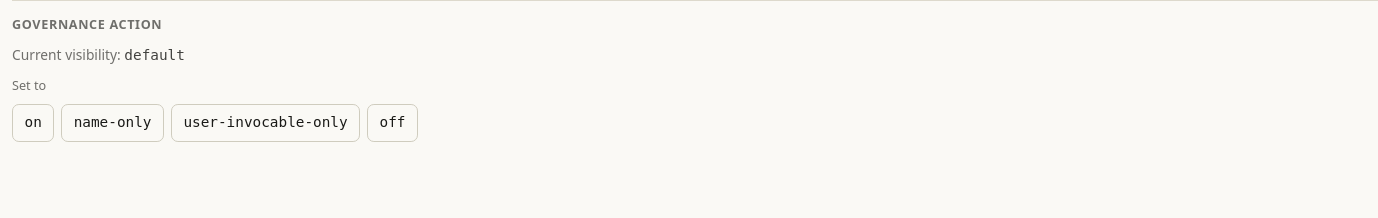
SkillVisibilityControl › preview: a real diff shows the file+line label and after text
Step 1. Click the button "off" → (392, 123), box [367,104,418,142]
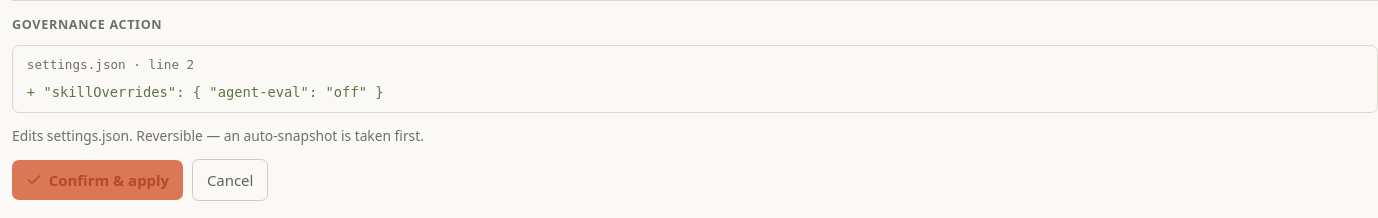
Expected: the text "settings.json · line 2" is shown, [27,58,194,72]
Expected: the text "+ \"skillOverrides\": { \"agent-eval\": \"off\" }" is shown, [27,84,384,100]
Expected: the button "Confirm & apply" is shown, [12,160,183,200]
